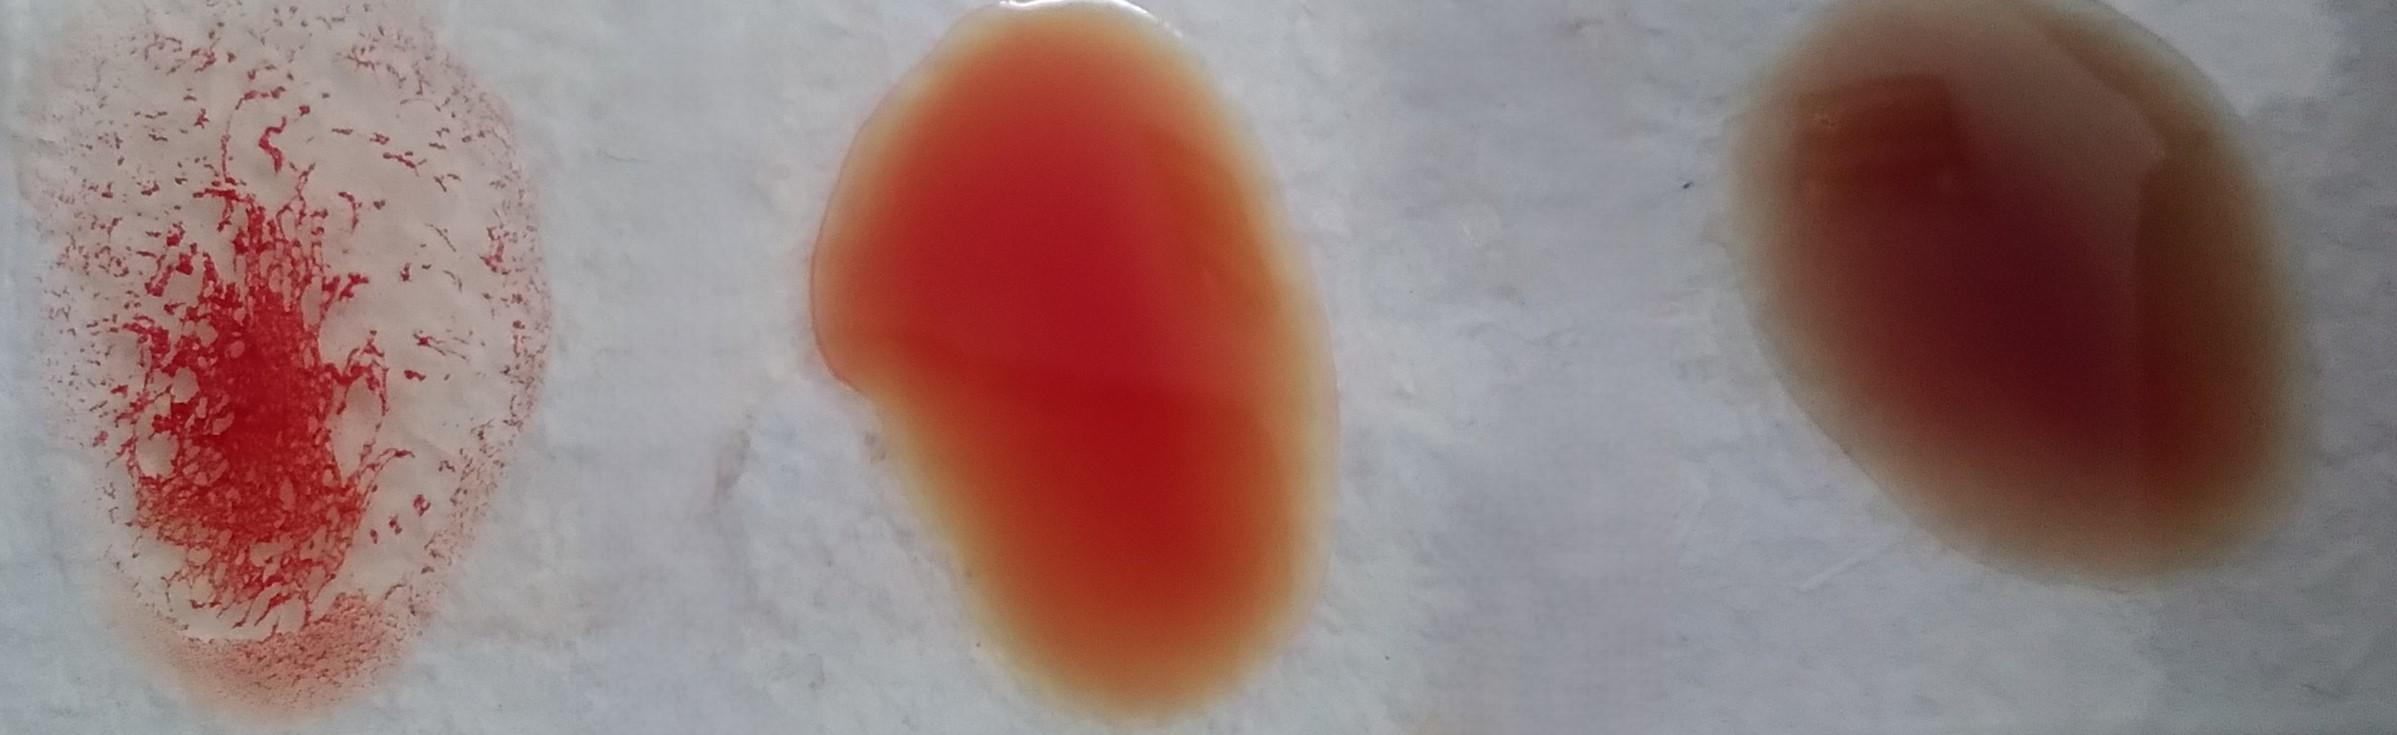D: (40, 20, 506, 721)
